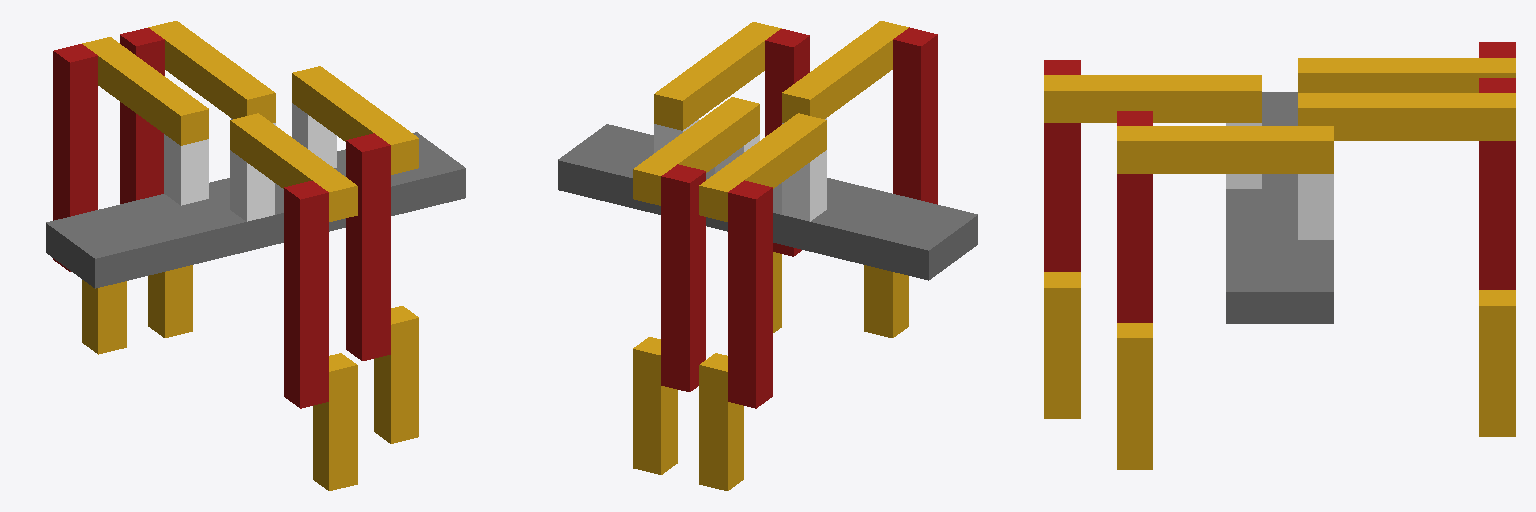
The robot description file, URDF, robot "v0":
<?xml version="1.0" encoding="utf-8"?>
<!-- =================================================================================== -->
<!-- |    This document was autogenerated by xacro from ../robots/v0variants/xacros/v0_4l_0.xacro | -->
<!-- |    EDITING THIS FILE BY HAND IS NOT RECOMMENDED                                 | -->
<!-- =================================================================================== -->
<robot name="v0">
  <material name="grey">
    <color rgba="0.5 0.5 0.5 1"/>
  </material>
  <material name="white">
    <color rgba="1 1 1 1"/>
  </material>
  <material name="yellow">
    <color rgba="0.91 0.7 0.14 1"/>
  </material>
  <material name="red">
    <color rgba="0.71 0.14 0.14 1"/>
  </material>
  <link name="body">
    <visual>
      <geometry>
        <box size="1.3 0.3 0.1"/>
      </geometry>
      <material name="grey"/>
      <origin rpy="0 0 0" xyz="0 0 0.7"/>
    </visual>
    <collision>
      <geometry>
        <box size="1.3 0.3 0.1"/>
      </geometry>
      <origin rpy="0 0 0" xyz="0 0 0.7"/>
    </collision>
    <inertial>
      <mass value="99.84"/>
      <inertia ixx="0.832" ixy="0.0" ixz="0.0" iyy="14.144" iyz="0.0" izz="14.8096"/>
    </inertial>
  </link>
  <link name="l1_segment_1">
    <visual>
      <geometry>
        <box size="0.1 0.1 0.2"/>
      </geometry>
      <material name="white"/>
      <origin rpy="0 0 0" xyz="0 0 0.1"/>
    </visual>
    <collision>
      <geometry>
        <box size="0.1 0.1 0.2"/>
      </geometry>
      <origin rpy="0 0 0" xyz="0 0 0.1"/>
    </collision>
    <inertial>
      <mass value="5.12"/>
      <inertia ixx="0.0213333333333" ixy="0.0" ixz="0.0" iyy="0.0213333333333" iyz="0.0" izz="0.00853333333333"/>
    </inertial>
  </link>
  <joint name="l1_base_to_joint_1" type="fixed">
    <parent link="body"/>
    <child link="l1_segment_1"/>
    <origin rpy="0 0 0" xyz="-0.18443990151053838 0.1 0.75"/>
  </joint>
  <link name="l1_segment_2_HIP">
    <visual>
      <geometry>
        <box size="0.1 0.6 0.1"/>
      </geometry>
      <material name="yellow"/>
      <origin rpy="0 0 0" xyz="0 0.25 0"/>
    </visual>
    <collision>
      <geometry>
        <box size="0.1 0.6 0.1"/>
      </geometry>
      <origin rpy="0 0 0" xyz="0 0.25 0"/>
    </collision>
    <inertial>
      <mass value="15.36"/>
      <inertia ixx="0.4736" ixy="0.0" ixz="0.0" iyy="0.0256" iyz="0.0" izz="0.4736"/>
    </inertial>
  </link>
  <joint name="l1_joint_1_to_2" type="revolute">
    <parent link="l1_segment_1"/>
    <child link="l1_segment_2_HIP"/>
    <origin rpy="0 0 0" xyz="0 0 0.25"/>
    <axis xyz="0.0 0.0 1.0"/>
    <limit effort="2048" lower="-1.2" upper="1.2" velocity="20"/>
  </joint>
  <link name="l1_segment_3_THIGH">
    <visual>
      <geometry>
        <box size="0.1 0.1 0.7"/>
      </geometry>
      <material name="red"/>
      <origin rpy="0 0 0" xyz="0 0 -0.3"/>
    </visual>
    <collision>
      <geometry>
        <box size="0.1 0.1 0.7"/>
      </geometry>
      <origin rpy="0 0 0" xyz="0 0 -0.3"/>
    </collision>
    <inertial>
      <mass value="17.92"/>
      <inertia ixx="0.746666666667" ixy="0.0" ixz="0.0" iyy="0.746666666667" iyz="0.0" izz="0.0298666666667"/>
    </inertial>
  </link>
  <joint name="l1_joint_2_to_3" type="revolute">
    <parent link="l1_segment_2_HIP"/>
    <child link="l1_segment_3_THIGH"/>
    <origin rpy="0 0 0" xyz="-0.1 0.5 0"/>
    <axis xyz="1.0 0.0 0.0"/>
    <limit effort="2048" lower="-0.2" upper="0.75" velocity="20"/>
  </joint>
  <link name="l1_segment_4_FOOT">
    <visual>
      <geometry>
        <box size="0.1 0.1 0.4"/>
      </geometry>
      <material name="yellow"/>
      <origin rpy="0 0 0" xyz="0 0 -0.2"/>
    </visual>
    <collision>
      <geometry>
        <box size="0.1 0.1 0.4"/>
      </geometry>
      <origin rpy="0 0 0" xyz="0 0 -0.2"/>
    </collision>
    <inertial>
      <mass value="10.24"/>
      <inertia ixx="0.145066666667" ixy="0.0" ixz="0.0" iyy="0.145066666667" iyz="0.0" izz="0.0170666666667"/>
    </inertial>
  </link>
  <joint name="l1_joint_3_to_4_FOOT" type="revolute">
    <parent link="l1_segment_3_THIGH"/>
    <child link="l1_segment_4_FOOT"/>
    <origin rpy="0 0 0" xyz="0.1 0 -0.55"/>
    <axis xyz="1.0 0.0 0.0"/>
    <limit effort="2048" lower="-0.2" upper="0.5" velocity="20"/>
  </joint>
  <link name="r2_segment_1">
    <visual>
      <geometry>
        <box size="0.1 0.1 0.2"/>
      </geometry>
      <material name="white"/>
      <origin rpy="0 0 0" xyz="0 0 0.1"/>
    </visual>
    <collision>
      <geometry>
        <box size="0.1 0.1 0.2"/>
      </geometry>
      <origin rpy="0 0 0" xyz="0 0 0.1"/>
    </collision>
    <inertial>
      <mass value="5.12"/>
      <inertia ixx="0.0213333333333" ixy="0.0" ixz="0.0" iyy="0.0213333333333" iyz="0.0" izz="0.00853333333333"/>
    </inertial>
  </link>
  <joint name="r2_base_to_joint_1" type="fixed">
    <parent link="body"/>
    <child link="r2_segment_1"/>
    <origin rpy="0 0 0" xyz="-0.06957427745540179 -0.1 0.75"/>
  </joint>
  <link name="r2_segment_2_HIP">
    <visual>
      <geometry>
        <box size="0.1 0.6 0.1"/>
      </geometry>
      <material name="yellow"/>
      <origin rpy="0 0 0" xyz="0 -0.25 0"/>
    </visual>
    <collision>
      <geometry>
        <box size="0.1 0.6 0.1"/>
      </geometry>
      <origin rpy="0 0 0" xyz="0 -0.25 0"/>
    </collision>
    <inertial>
      <mass value="15.36"/>
      <inertia ixx="0.4736" ixy="0.0" ixz="0.0" iyy="0.0256" iyz="0.0" izz="0.4736"/>
    </inertial>
  </link>
  <joint name="r2_joint_1_to_2" type="revolute">
    <parent link="r2_segment_1"/>
    <child link="r2_segment_2_HIP"/>
    <origin rpy="0 0 0" xyz="0 0 0.25"/>
    <axis xyz="0.0 0.0 1.0"/>
    <limit effort="2048" lower="-1.2" upper="1.2" velocity="20"/>
  </joint>
  <link name="r2_segment_3_THIGH">
    <visual>
      <geometry>
        <box size="0.1 0.1 0.7"/>
      </geometry>
      <material name="red"/>
      <origin rpy="0 0 0" xyz="0 0 -0.3"/>
    </visual>
    <collision>
      <geometry>
        <box size="0.1 0.1 0.7"/>
      </geometry>
      <origin rpy="0 0 0" xyz="0 0 -0.3"/>
    </collision>
    <inertial>
      <mass value="17.92"/>
      <inertia ixx="0.746666666667" ixy="0.0" ixz="0.0" iyy="0.746666666667" iyz="0.0" izz="0.0298666666667"/>
    </inertial>
  </link>
  <joint name="r2_joint_2_to_3" type="revolute">
    <parent link="r2_segment_2_HIP"/>
    <child link="r2_segment_3_THIGH"/>
    <origin rpy="0 0 0" xyz="-0.1 -0.5 0"/>
    <axis xyz="1.0 0.0 0.0"/>
    <limit effort="2048" lower="-0.75" upper="0.2" velocity="20"/>
  </joint>
  <link name="r2_segment_4_FOOT">
    <visual>
      <geometry>
        <box size="0.1 0.1 0.4"/>
      </geometry>
      <material name="yellow"/>
      <origin rpy="0 0 0" xyz="0 0 -0.2"/>
    </visual>
    <collision>
      <geometry>
        <box size="0.1 0.1 0.4"/>
      </geometry>
      <origin rpy="0 0 0" xyz="0 0 -0.2"/>
    </collision>
    <inertial>
      <mass value="10.24"/>
      <inertia ixx="0.145066666667" ixy="0.0" ixz="0.0" iyy="0.145066666667" iyz="0.0" izz="0.0170666666667"/>
    </inertial>
  </link>
  <joint name="r2_joint_3_to_4_FOOT" type="revolute">
    <parent link="r2_segment_3_THIGH"/>
    <child link="r2_segment_4_FOOT"/>
    <origin rpy="0 0 0" xyz="0.1 0 -0.55"/>
    <axis xyz="1.0 0.0 0.0"/>
    <limit effort="2048" lower="-0.5" upper="0.2" velocity="20"/>
  </joint>
  <link name="l3_segment_1">
    <visual>
      <geometry>
        <box size="0.1 0.1 0.2"/>
      </geometry>
      <material name="white"/>
      <origin rpy="0 0 0" xyz="0 0 0.1"/>
    </visual>
    <collision>
      <geometry>
        <box size="0.1 0.1 0.2"/>
      </geometry>
      <origin rpy="0 0 0" xyz="0 0 0.1"/>
    </collision>
    <inertial>
      <mass value="5.12"/>
      <inertia ixx="0.0213333333333" ixy="0.0" ixz="0.0" iyy="0.0213333333333" iyz="0.0" izz="0.00853333333333"/>
    </inertial>
  </link>
  <joint name="l3_base_to_joint_1" type="fixed">
    <parent link="body"/>
    <child link="l3_segment_1"/>
    <origin rpy="0 0 0" xyz="0.047835087708308466 0.1 0.75"/>
  </joint>
  <link name="l3_segment_2_HIP">
    <visual>
      <geometry>
        <box size="0.1 0.6 0.1"/>
      </geometry>
      <material name="yellow"/>
      <origin rpy="0 0 0" xyz="0 0.25 0"/>
    </visual>
    <collision>
      <geometry>
        <box size="0.1 0.6 0.1"/>
      </geometry>
      <origin rpy="0 0 0" xyz="0 0.25 0"/>
    </collision>
    <inertial>
      <mass value="15.36"/>
      <inertia ixx="0.4736" ixy="0.0" ixz="0.0" iyy="0.0256" iyz="0.0" izz="0.4736"/>
    </inertial>
  </link>
  <joint name="l3_joint_1_to_2" type="revolute">
    <parent link="l3_segment_1"/>
    <child link="l3_segment_2_HIP"/>
    <origin rpy="0 0 0" xyz="0 0 0.25"/>
    <axis xyz="0.0 0.0 1.0"/>
    <limit effort="2048" lower="-1.2" upper="1.2" velocity="20"/>
  </joint>
  <link name="l3_segment_3_THIGH">
    <visual>
      <geometry>
        <box size="0.1 0.1 0.7"/>
      </geometry>
      <material name="red"/>
      <origin rpy="0 0 0" xyz="0 0 -0.3"/>
    </visual>
    <collision>
      <geometry>
        <box size="0.1 0.1 0.7"/>
      </geometry>
      <origin rpy="0 0 0" xyz="0 0 -0.3"/>
    </collision>
    <inertial>
      <mass value="17.92"/>
      <inertia ixx="0.746666666667" ixy="0.0" ixz="0.0" iyy="0.746666666667" iyz="0.0" izz="0.0298666666667"/>
    </inertial>
  </link>
  <joint name="l3_joint_2_to_3" type="revolute">
    <parent link="l3_segment_2_HIP"/>
    <child link="l3_segment_3_THIGH"/>
    <origin rpy="0 0 0" xyz="-0.1 0.5 0"/>
    <axis xyz="1.0 0.0 0.0"/>
    <limit effort="2048" lower="-0.2" upper="0.75" velocity="20"/>
  </joint>
  <link name="l3_segment_4_FOOT">
    <visual>
      <geometry>
        <box size="0.1 0.1 0.4"/>
      </geometry>
      <material name="yellow"/>
      <origin rpy="0 0 0" xyz="0 0 -0.2"/>
    </visual>
    <collision>
      <geometry>
        <box size="0.1 0.1 0.4"/>
      </geometry>
      <origin rpy="0 0 0" xyz="0 0 -0.2"/>
    </collision>
    <inertial>
      <mass value="10.24"/>
      <inertia ixx="0.145066666667" ixy="0.0" ixz="0.0" iyy="0.145066666667" iyz="0.0" izz="0.0170666666667"/>
    </inertial>
  </link>
  <joint name="l3_joint_3_to_4_FOOT" type="revolute">
    <parent link="l3_segment_3_THIGH"/>
    <child link="l3_segment_4_FOOT"/>
    <origin rpy="0 0 0" xyz="0.1 0 -0.55"/>
    <axis xyz="1.0 0.0 0.0"/>
    <limit effort="2048" lower="-0.2" upper="0.5" velocity="20"/>
  </joint>
  <link name="r4_segment_1">
    <visual>
      <geometry>
        <box size="0.1 0.1 0.2"/>
      </geometry>
      <material name="white"/>
      <origin rpy="0 0 0" xyz="0 0 0.1"/>
    </visual>
    <collision>
      <geometry>
        <box size="0.1 0.1 0.2"/>
      </geometry>
      <origin rpy="0 0 0" xyz="0 0 0.1"/>
    </collision>
    <inertial>
      <mass value="5.12"/>
      <inertia ixx="0.0213333333333" ixy="0.0" ixz="0.0" iyy="0.0213333333333" iyz="0.0" izz="0.00853333333333"/>
    </inertial>
  </link>
  <joint name="r4_base_to_joint_1" type="fixed">
    <parent link="body"/>
    <child link="r4_segment_1"/>
    <origin rpy="0 0 0" xyz="0.26224486932002167 0.1 0.75"/>
  </joint>
  <link name="r4_segment_2_HIP">
    <visual>
      <geometry>
        <box size="0.1 0.6 0.1"/>
      </geometry>
      <material name="yellow"/>
      <origin rpy="0 0 0" xyz="0 -0.25 0"/>
    </visual>
    <collision>
      <geometry>
        <box size="0.1 0.6 0.1"/>
      </geometry>
      <origin rpy="0 0 0" xyz="0 -0.25 0"/>
    </collision>
    <inertial>
      <mass value="15.36"/>
      <inertia ixx="0.4736" ixy="0.0" ixz="0.0" iyy="0.0256" iyz="0.0" izz="0.4736"/>
    </inertial>
  </link>
  <joint name="r4_joint_1_to_2" type="revolute">
    <parent link="r4_segment_1"/>
    <child link="r4_segment_2_HIP"/>
    <origin rpy="0 0 0" xyz="0 0 0.25"/>
    <axis xyz="0.0 0.0 1.0"/>
    <limit effort="2048" lower="-1.2" upper="1.2" velocity="20"/>
  </joint>
  <link name="r4_segment_3_THIGH">
    <visual>
      <geometry>
        <box size="0.1 0.1 0.7"/>
      </geometry>
      <material name="red"/>
      <origin rpy="0 0 0" xyz="0 0 -0.3"/>
    </visual>
    <collision>
      <geometry>
        <box size="0.1 0.1 0.7"/>
      </geometry>
      <origin rpy="0 0 0" xyz="0 0 -0.3"/>
    </collision>
    <inertial>
      <mass value="17.92"/>
      <inertia ixx="0.746666666667" ixy="0.0" ixz="0.0" iyy="0.746666666667" iyz="0.0" izz="0.0298666666667"/>
    </inertial>
  </link>
  <joint name="r4_joint_2_to_3" type="revolute">
    <parent link="r4_segment_2_HIP"/>
    <child link="r4_segment_3_THIGH"/>
    <origin rpy="0 0 0" xyz="-0.1 -0.5 0"/>
    <axis xyz="1.0 0.0 0.0"/>
    <limit effort="2048" lower="-0.75" upper="0.2" velocity="20"/>
  </joint>
  <link name="r4_segment_4_FOOT">
    <visual>
      <geometry>
        <box size="0.1 0.1 0.4"/>
      </geometry>
      <material name="yellow"/>
      <origin rpy="0 0 0" xyz="0 0 -0.2"/>
    </visual>
    <collision>
      <geometry>
        <box size="0.1 0.1 0.4"/>
      </geometry>
      <origin rpy="0 0 0" xyz="0 0 -0.2"/>
    </collision>
    <inertial>
      <mass value="10.24"/>
      <inertia ixx="0.145066666667" ixy="0.0" ixz="0.0" iyy="0.145066666667" iyz="0.0" izz="0.0170666666667"/>
    </inertial>
  </link>
  <joint name="r4_joint_3_to_4_FOOT" type="revolute">
    <parent link="r4_segment_3_THIGH"/>
    <child link="r4_segment_4_FOOT"/>
    <origin rpy="0 0 0" xyz="0.1 0 -0.55"/>
    <axis xyz="1.0 0.0 0.0"/>
    <limit effort="2048" lower="-0.5" upper="0.2" velocity="20"/>
  </joint>
</robot>

--- Facts derived from the render (not from the file) ---
Views: 3 orthographic renders of the robot side by side, from view 1: azimuth 30°, elevation 25°; view 2: azimuth 150°, elevation 25°; view 3: azimuth 270°, elevation 25°.
Robot: v0 — 17 links, 16 joints (12 revolute, 4 fixed); root link body; default pose: every joint at zero.
Visible links, largest first — view 1: body, r2_segment_3_THIGH, r4_segment_3_THIGH, l1_segment_3_THIGH, l1_segment_2_HIP, l3_segment_2_HIP, r2_segment_2_HIP, r4_segment_2_HIP, r2_segment_4_FOOT, r4_segment_4_FOOT, l3_segment_3_THIGH, l1_segment_4_FOOT (+4 smaller); view 2: body, l1_segment_3_THIGH, l3_segment_3_THIGH, r2_segment_3_THIGH, r4_segment_2_HIP, r2_segment_2_HIP, l1_segment_2_HIP, l3_segment_2_HIP, l1_segment_4_FOOT, l3_segment_4_FOOT, r4_segment_3_THIGH, r2_segment_4_FOOT (+2 smaller); view 3: body, r4_segment_2_HIP, r2_segment_2_HIP, l3_segment_2_HIP, l1_segment_2_HIP, r2_segment_3_THIGH, l3_segment_3_THIGH, r4_segment_3_THIGH, r2_segment_4_FOOT, l3_segment_4_FOOT, r4_segment_4_FOOT, r4_segment_1 (+2 smaller).
Link boxes in pixels (box(x1,y1,x2,y2)): body: box(46, 132, 465, 288); r2_segment_3_THIGH: box(284, 181, 328, 408); r4_segment_3_THIGH: box(346, 133, 390, 360); l1_segment_3_THIGH: box(53, 44, 97, 271); l1_segment_2_HIP: box(82, 37, 208, 145); l3_segment_2_HIP: box(148, 21, 275, 122); r2_segment_2_HIP: box(230, 113, 357, 221); r4_segment_2_HIP: box(292, 66, 418, 174); r2_segment_4_FOOT: box(313, 353, 357, 490); r4_segment_4_FOOT: box(374, 306, 418, 443); l3_segment_3_THIGH: box(120, 28, 164, 203); l1_segment_4_FOOT: box(82, 280, 126, 354); body: box(558, 124, 977, 280); l1_segment_3_THIGH: box(728, 180, 772, 408); l3_segment_3_THIGH: box(661, 164, 705, 391); r2_segment_3_THIGH: box(893, 27, 937, 204); r4_segment_2_HIP: box(654, 22, 781, 130); r2_segment_2_HIP: box(782, 21, 908, 122); l1_segment_2_HIP: box(699, 113, 826, 221); l3_segment_2_HIP: box(633, 97, 759, 205); l1_segment_4_FOOT: box(699, 353, 743, 490); l3_segment_4_FOOT: box(633, 337, 677, 474); r4_segment_3_THIGH: box(765, 29, 809, 256); r2_segment_4_FOOT: box(864, 265, 908, 337); body: box(1226, 92, 1333, 323); r4_segment_2_HIP: box(1117, 126, 1333, 173); r2_segment_2_HIP: box(1044, 75, 1261, 122); l3_segment_2_HIP: box(1298, 93, 1515, 140); l1_segment_2_HIP: box(1298, 58, 1515, 92); r2_segment_3_THIGH: box(1044, 60, 1080, 271); l3_segment_3_THIGH: box(1479, 78, 1515, 289); r4_segment_3_THIGH: box(1117, 111, 1152, 322); r2_segment_4_FOOT: box(1044, 272, 1080, 418); l3_segment_4_FOOT: box(1479, 290, 1515, 436); r4_segment_4_FOOT: box(1117, 323, 1152, 469); r4_segment_1: box(1298, 174, 1333, 239).
Bounding box of the posed robot: 1.3 × 1.3 × 1 m (x, y, z).
Geometry: primitives only (box / cylinder / sphere), no mesh files.